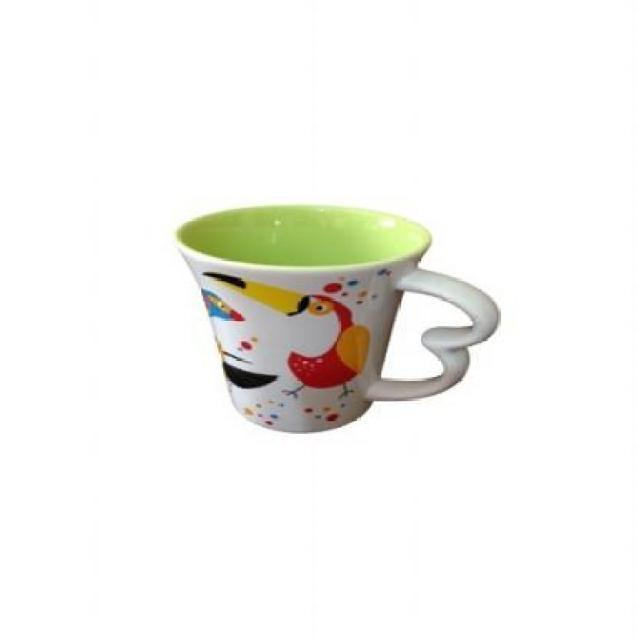taza: (174, 202, 504, 435)
